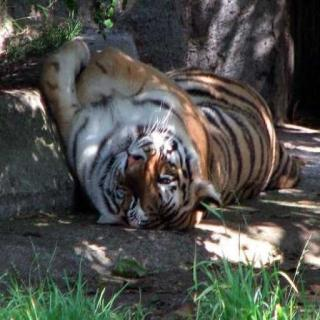Tiger: (48, 32, 310, 238)
